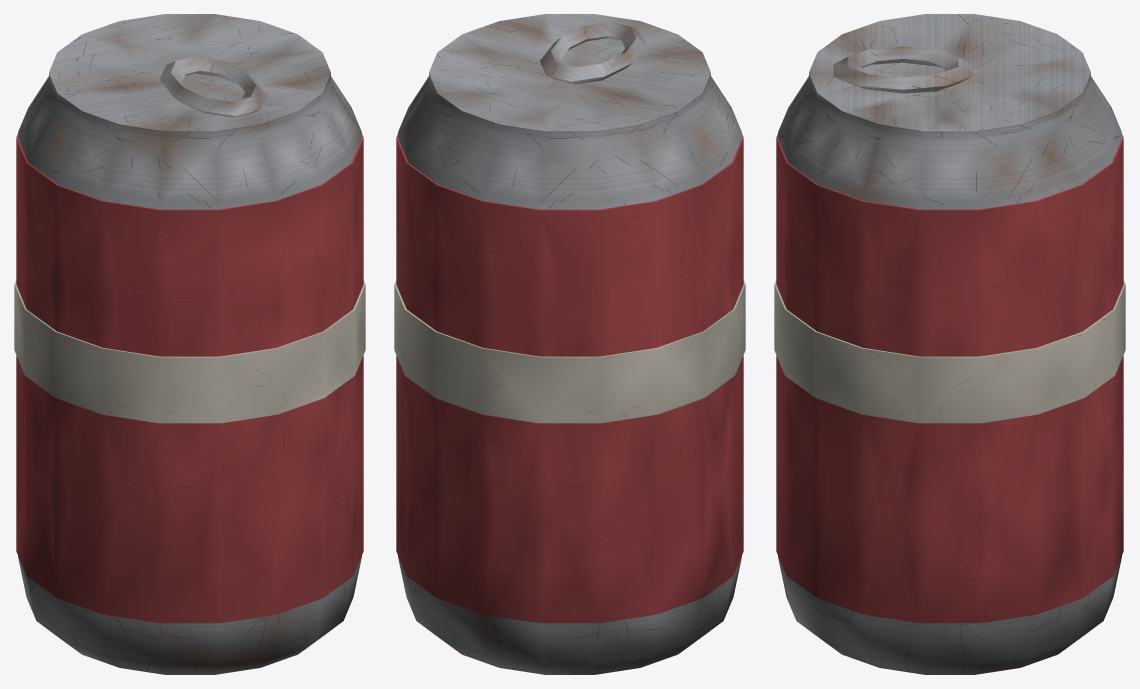
The model's file is soda_can.glb.
The picture shows the model from 3 angles, left to right: view 1: azimuth 30°, elevation 25°; view 2: azimuth 150°, elevation 25°; view 3: azimuth 270°, elevation 25°; orthographic projection.
Parts seen in each view (by area): view 1: soda_can; view 2: soda_can; view 3: soda_can.
Part boxes in pixels (x1,y1,x2,y2): soda_can: (14, 14, 365, 674); soda_can: (394, 14, 745, 674); soda_can: (774, 14, 1125, 674).
Bounding box in the file's own units: 6.63 × 11.73 × 6.73.
3 materials, 3 textured.
